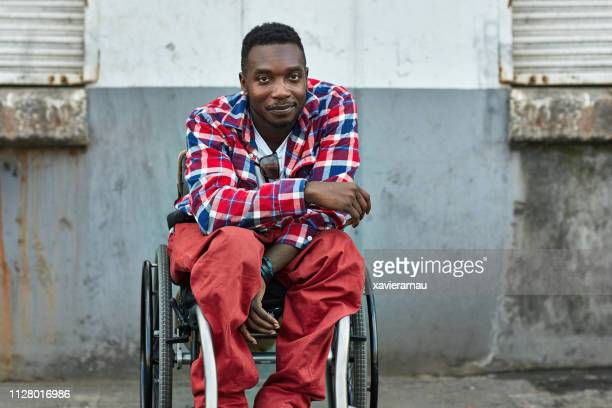wheelchair: (137, 20, 382, 408)
